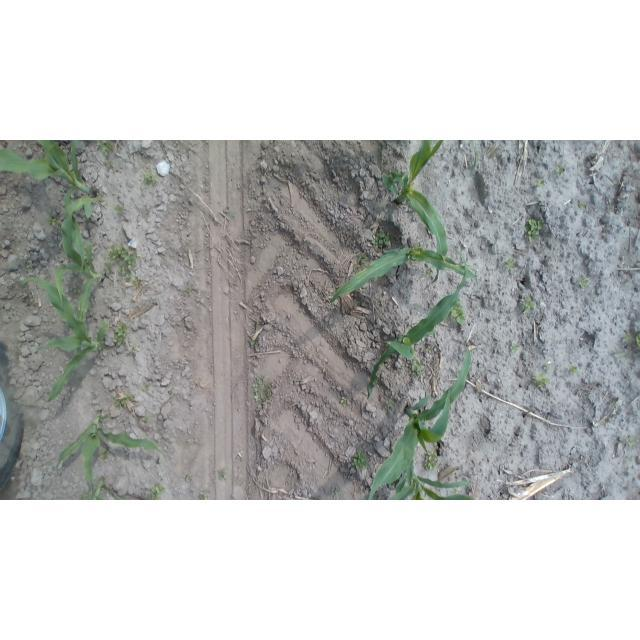Maize: (360, 247, 470, 406), (364, 343, 472, 500), (19, 274, 109, 406), (327, 239, 482, 308), (379, 140, 450, 286), (54, 406, 170, 494), (1, 140, 102, 220), (53, 194, 107, 331), (377, 454, 468, 500), (70, 476, 135, 500)
Weeds: (101, 243, 139, 281), (252, 372, 279, 408), (524, 216, 544, 244), (350, 448, 371, 473), (449, 300, 467, 329), (422, 449, 442, 474), (111, 390, 136, 408), (112, 322, 129, 347), (529, 372, 555, 388), (94, 140, 117, 158), (371, 232, 392, 251), (409, 356, 427, 378), (145, 483, 167, 499), (353, 251, 368, 274), (519, 295, 537, 314), (141, 170, 161, 186), (622, 332, 640, 349), (47, 216, 66, 231), (614, 350, 630, 366), (103, 160, 122, 173), (502, 258, 518, 273), (383, 397, 397, 413), (578, 275, 591, 292), (97, 447, 112, 461), (113, 203, 129, 216), (125, 345, 142, 357), (246, 201, 260, 215), (222, 207, 237, 220), (508, 340, 520, 356), (622, 436, 638, 448), (423, 343, 436, 357), (216, 467, 229, 481), (422, 264, 432, 281), (142, 379, 155, 392), (132, 276, 145, 289), (554, 165, 567, 177), (569, 364, 582, 376), (328, 483, 341, 495), (338, 395, 353, 405), (534, 178, 546, 190), (196, 491, 212, 500), (183, 472, 194, 483), (184, 284, 196, 294), (579, 201, 590, 211), (541, 363, 551, 374), (246, 192, 258, 201), (166, 390, 176, 399), (624, 454, 635, 462), (23, 262, 32, 271), (251, 338, 260, 346), (143, 415, 150, 424), (567, 310, 574, 318), (295, 379, 302, 385)
